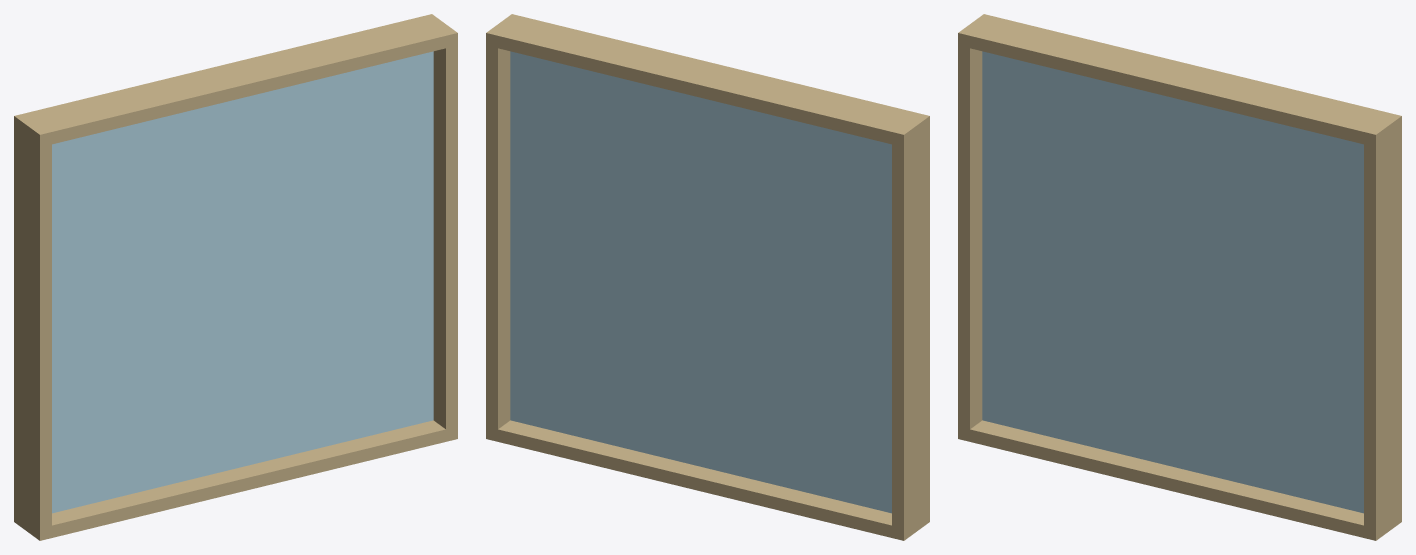
Rendered from janela_140x130.glb.
3 views of the same model, side by side, from view 1: azimuth 30°, elevation 25°; view 2: azimuth 150°, elevation 25°; view 3: azimuth 330°, elevation 25° (orthographic).
Parts seen in each view (by area): view 1: janela_140x130; view 2: janela_140x130; view 3: janela_140x130.
Boxes of the visible parts, bbox=[...] form: janela_140x130: bbox=[14, 14, 457, 540]; janela_140x130: bbox=[486, 14, 929, 540]; janela_140x130: bbox=[958, 14, 1401, 540].
Bounding box in the file's own units: 1.4 × 1.3 × 0.15.
